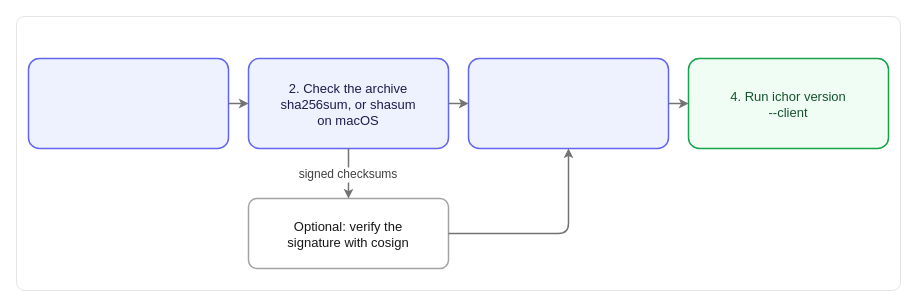
Image size: 917x307. Some labels were removed from this diagram. The box of each missing label's shape, as (x1, y1, x2, y2) in pixels:
1. Download the archive and the checksums file: (27, 57, 229, 149)
3. Unpack and install ichor on your PATH: (467, 57, 669, 149)
